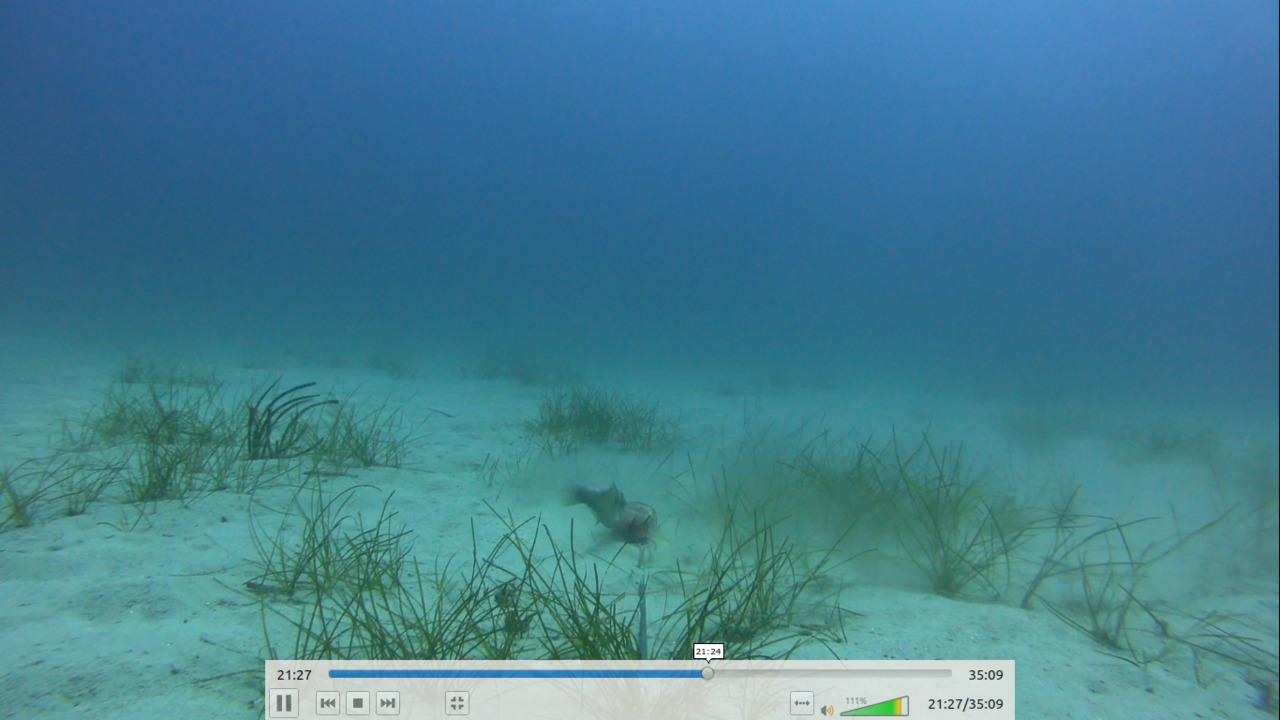raor: (552, 473, 630, 533)
